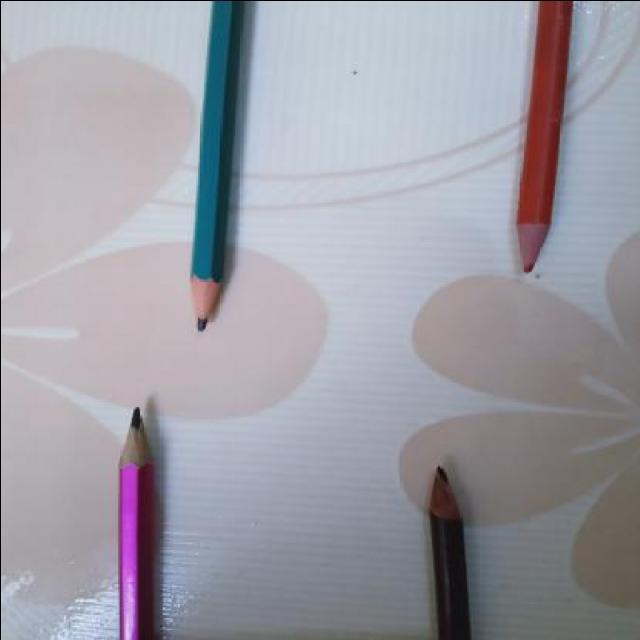Pencil: (100, 401, 168, 485), (170, 264, 233, 342), (492, 210, 560, 281), (416, 458, 474, 536)
